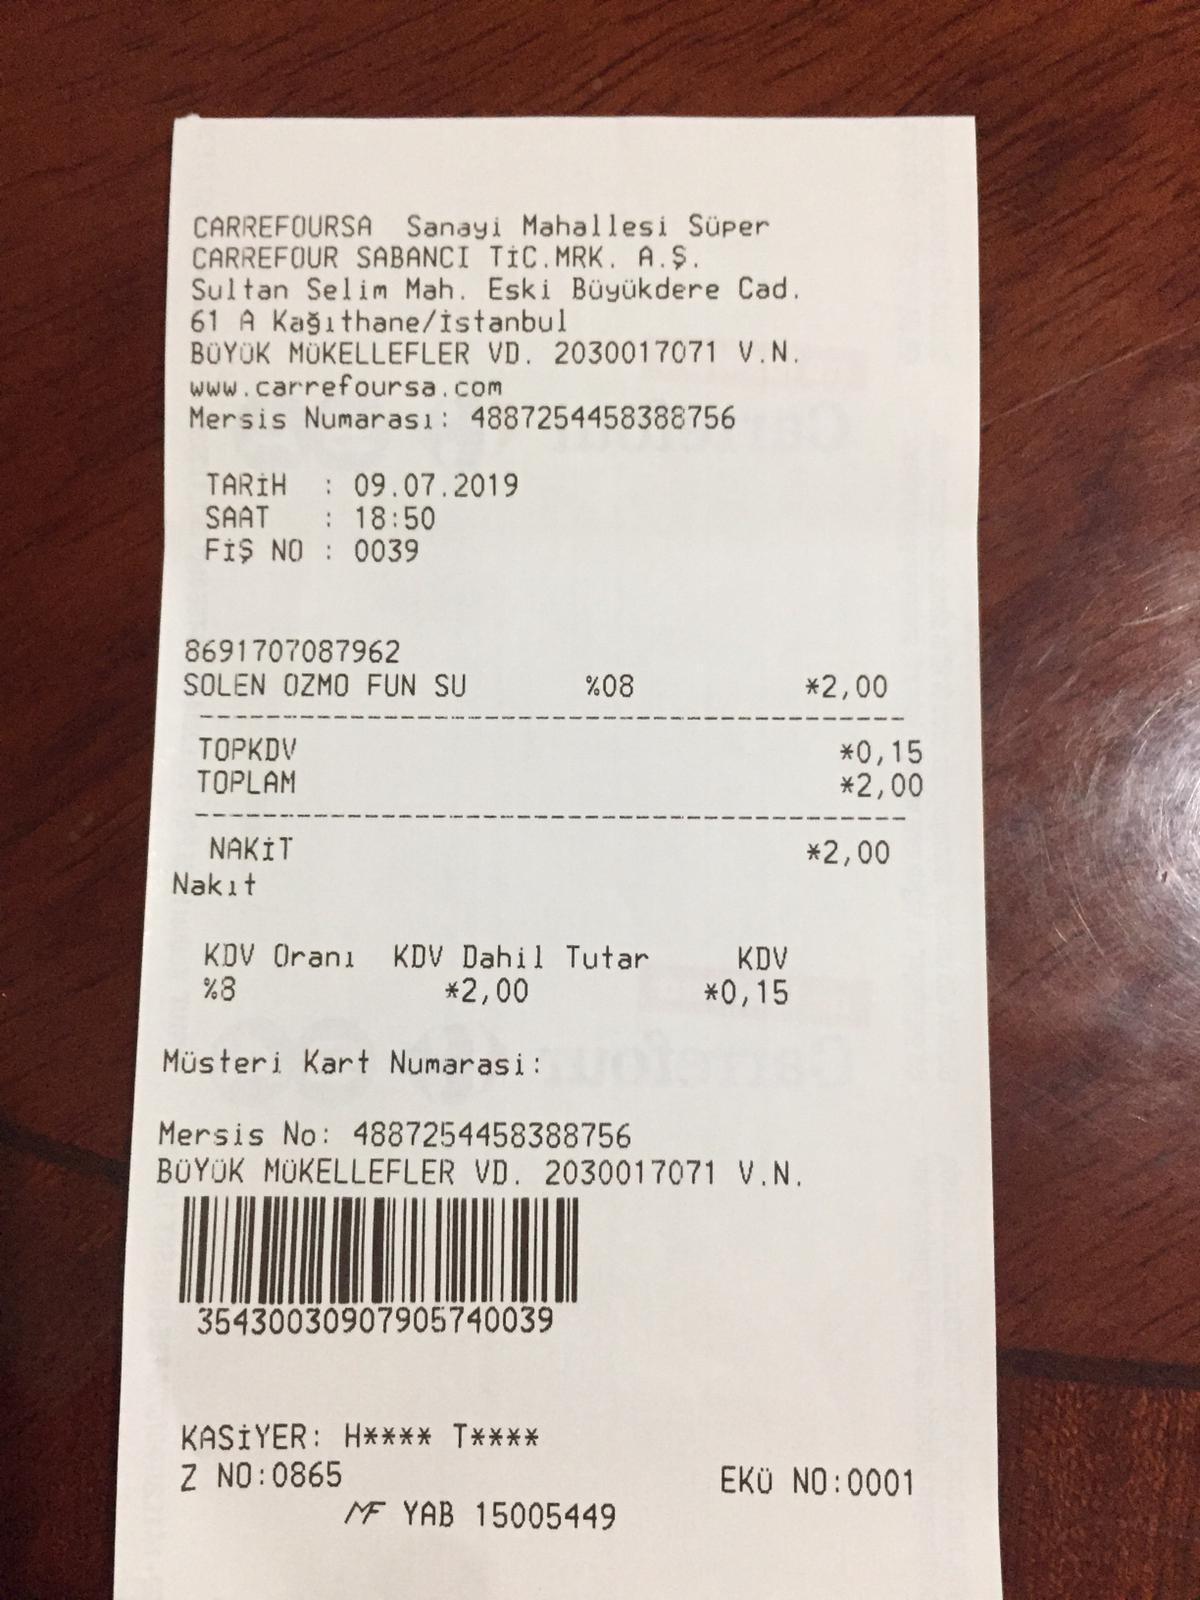total: (191, 762, 930, 804)
